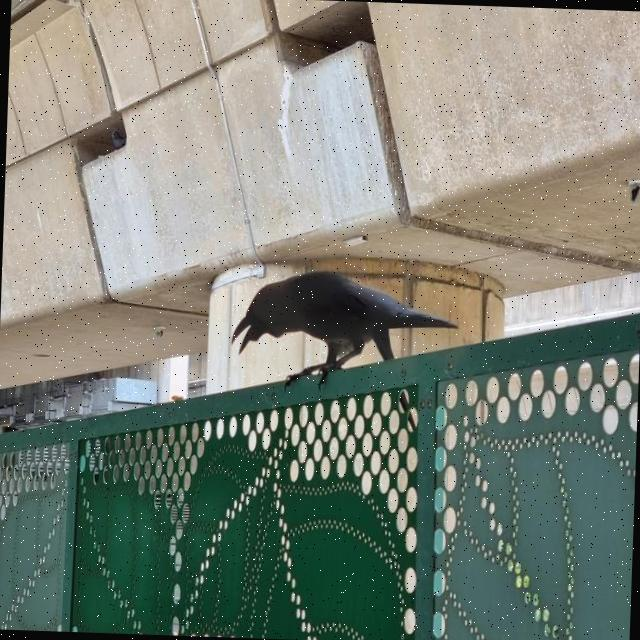crow: (225, 262, 464, 409)
